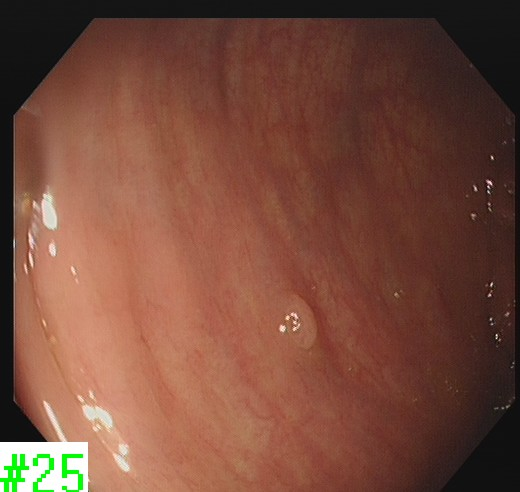others: (279, 291, 320, 352)
